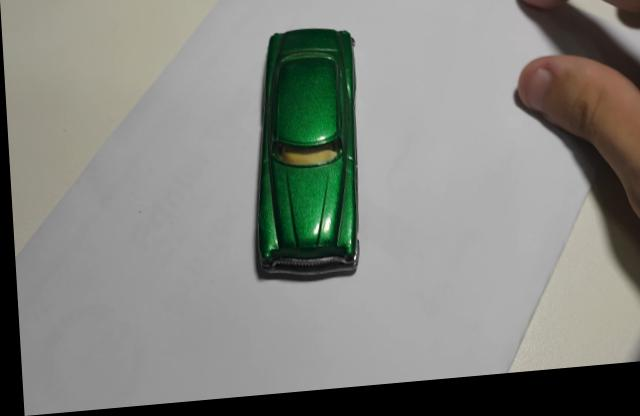06_MASERATI: (250, 34, 357, 288)
